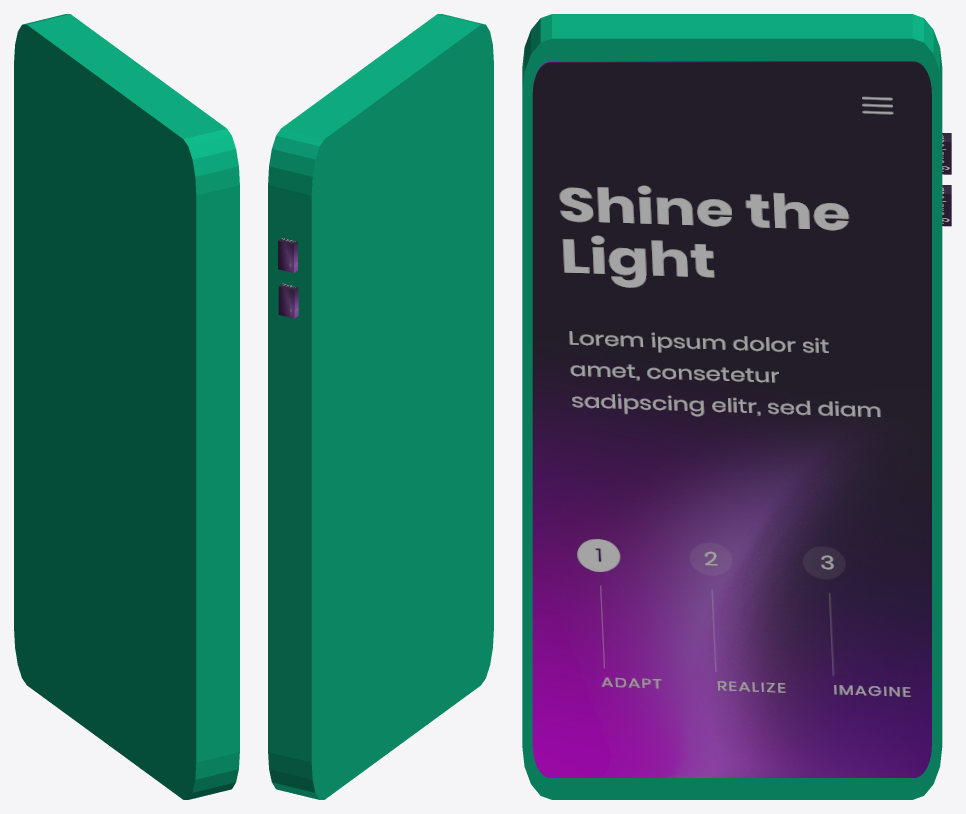
File: iphone2.gltf
3 views of the same model, side by side, from view 1: azimuth 30°, elevation 25°; view 2: azimuth 150°, elevation 25°; view 3: azimuth 270°, elevation 25° (orthographic). The views are drawn at different scales.
Visible parts, largest first — view 1: Plane; view 2: Plane; view 3: Plane.
Boxes of the visible parts, box(x1,y1,x2,y2) form: Plane: box(14, 14, 239, 799); Plane: box(268, 14, 493, 799); Plane: box(522, 14, 951, 799).
Size of the model in its own units: 0.2871 by 4 by 2.04.
2 materials, 1 textured.
